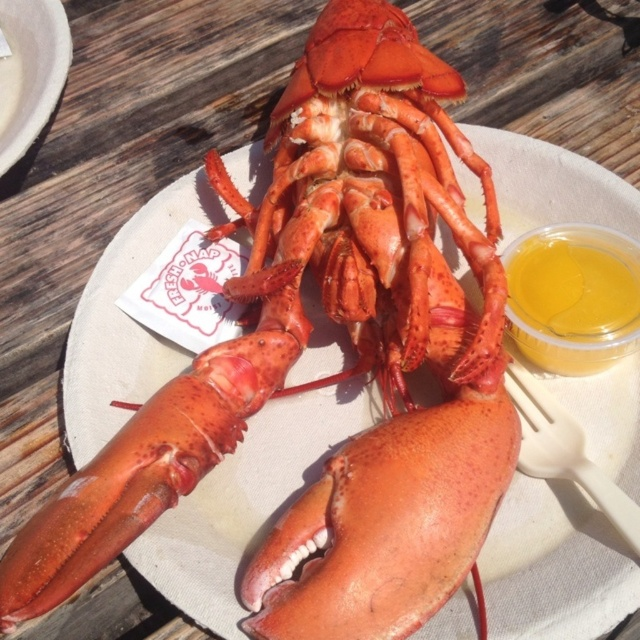Crab: (1, 1, 526, 640)
